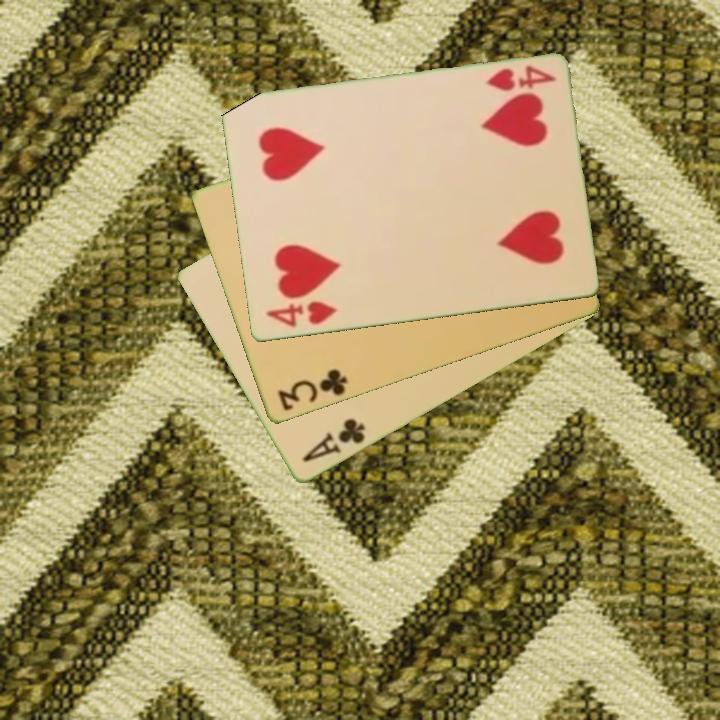3c: (273, 365, 350, 414)
4h: (262, 298, 340, 331), (482, 62, 558, 95)
Ac: (298, 415, 368, 466)
